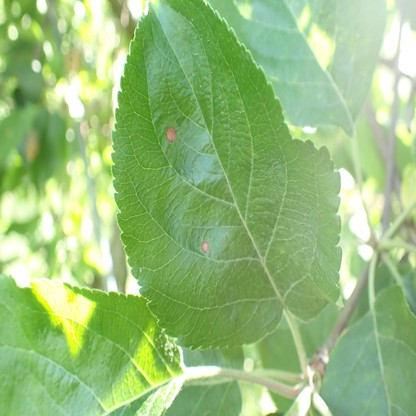frogeye_leaf_spot: (167, 126, 176, 141), (201, 242, 209, 253)
